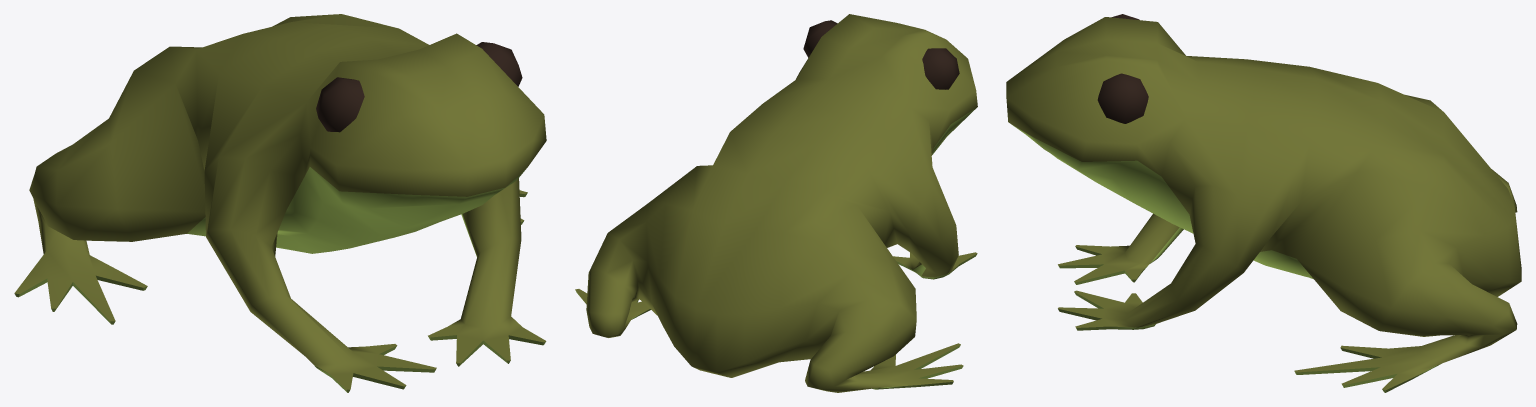
Rendered from itch_assetquest_pond_frog_1.glb.
3 renders of one model, left to right at view 1: azimuth 30°, elevation 25°; view 2: azimuth 150°, elevation 25°; view 3: azimuth 270°, elevation 25°, orthographic. The views are drawn at different scales.
Visible parts, largest first — view 1: Frog_1; view 2: Frog_1; view 3: Frog_1.
Part boxes in pixels (x1,y1,x2,y2): Frog_1: [14, 14, 546, 392]; Frog_1: [575, 14, 977, 392]; Frog_1: [1006, 14, 1521, 392].
Size of the model in its own units: 0.9159 by 0.5168 by 0.96.
